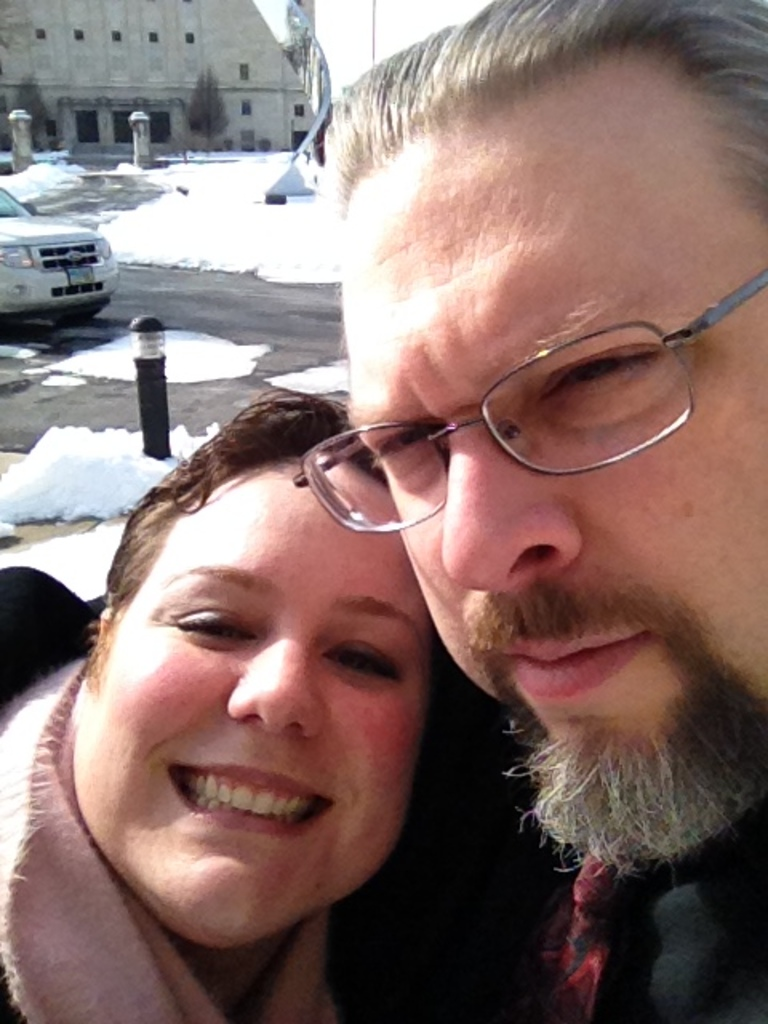Car: (1, 199, 132, 315)
